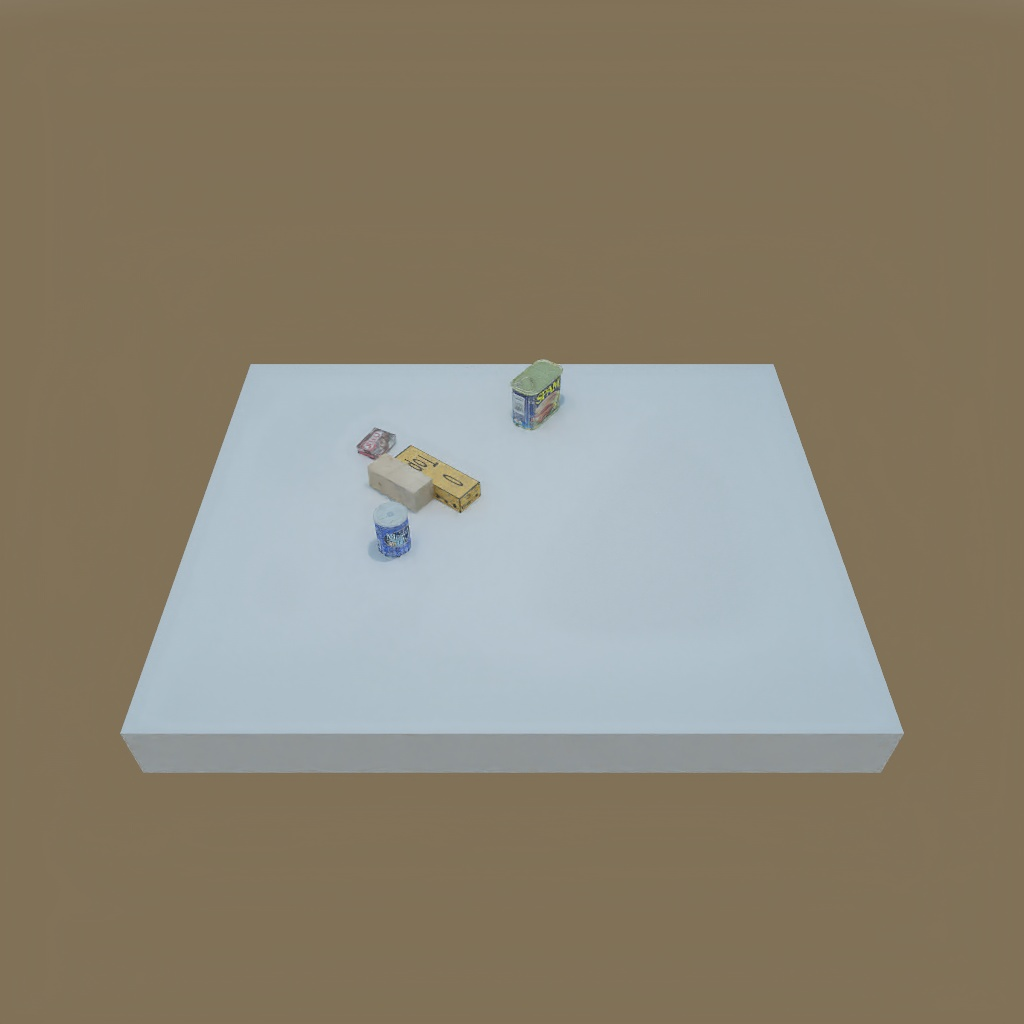jenga: (392, 443, 482, 515)
master_chef_can: (368, 506, 419, 560)
potted_meat_can: (509, 360, 564, 432)
pudding_box: (356, 424, 398, 462)
wood_block: (363, 452, 436, 512)
